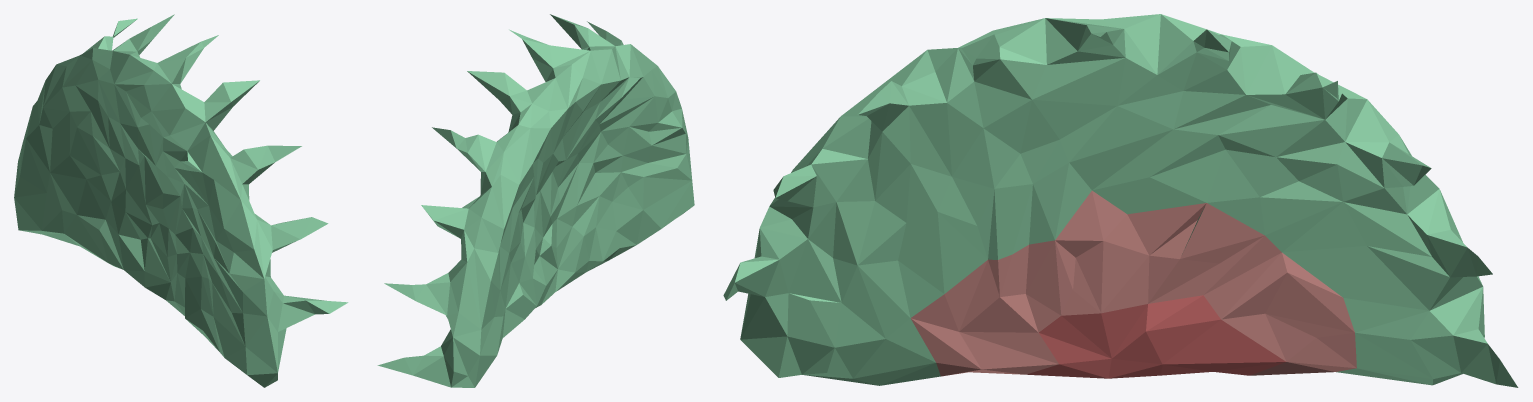
Rendered from stm_env_VeniceFlyTrap2.fbx.
3 renders of one model, left to right at view 1: azimuth 30°, elevation 25°; view 2: azimuth 150°, elevation 25°; view 3: azimuth 270°, elevation 25°, orthographic. The views are drawn at different scales.
Parts seen in each view (by area): view 1: stm_env_VFT_Mouthpiece_002; view 2: stm_env_VFT_Mouthpiece_002; view 3: stm_env_VFT_Mouthpiece_002.
Boxes of the visible parts, <box> form: stm_env_VFT_Mouthpiece_002: <box>14,14,348,387</box>; stm_env_VFT_Mouthpiece_002: <box>377,14,694,387</box>; stm_env_VFT_Mouthpiece_002: <box>723,14,1518,387</box>.
Bounding box in the file's own units: 70.93 × 197 × 359.
